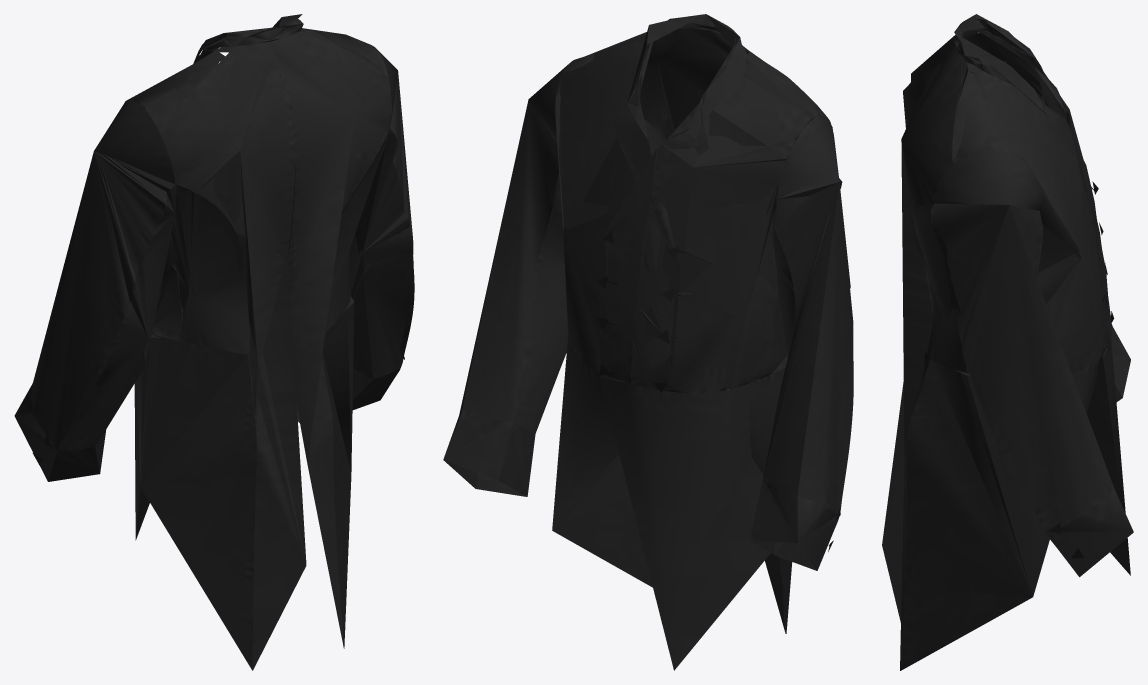
Rendered from coat-overcoat.lod1.glb.
3 views of the same model, side by side, from view 1: azimuth 30°, elevation 25°; view 2: azimuth 150°, elevation 25°; view 3: azimuth 270°, elevation 25° (orthographic). The views are drawn at different scales.
Visible parts, largest first — view 1: coat-overcoat; view 2: coat-overcoat; view 3: coat-overcoat.
Part boxes in pixels (left/top/right/bottom): coat-overcoat: left=14, top=14, right=414, bottom=670; coat-overcoat: left=443, top=14, right=853, bottom=670; coat-overcoat: left=882, top=14, right=1133, bottom=670.
Size of the model in its own units: 0.668 by 1.08 by 0.3988.
1 material, 1 textured.
